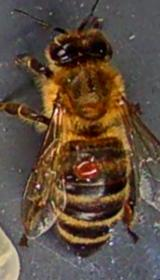varroa_mite: (70, 152, 106, 186)
